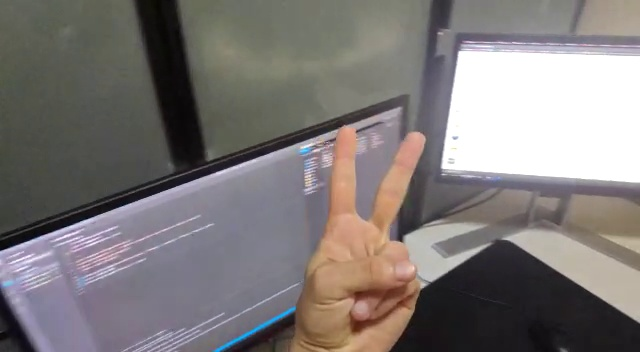Peace: (284, 122, 437, 349)
